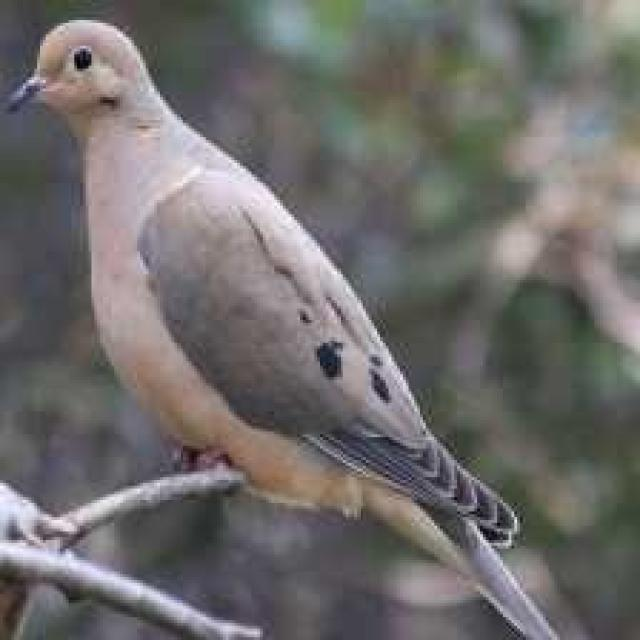dove: (3, 8, 580, 640)
